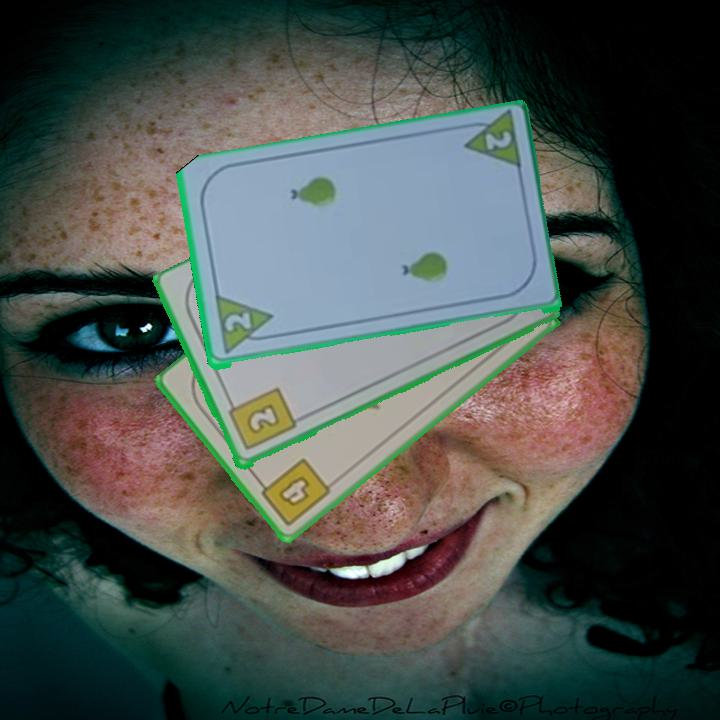2b: (224, 384, 299, 454)
2p: (480, 128, 515, 154), (220, 309, 254, 335)
4b: (252, 455, 334, 530)
